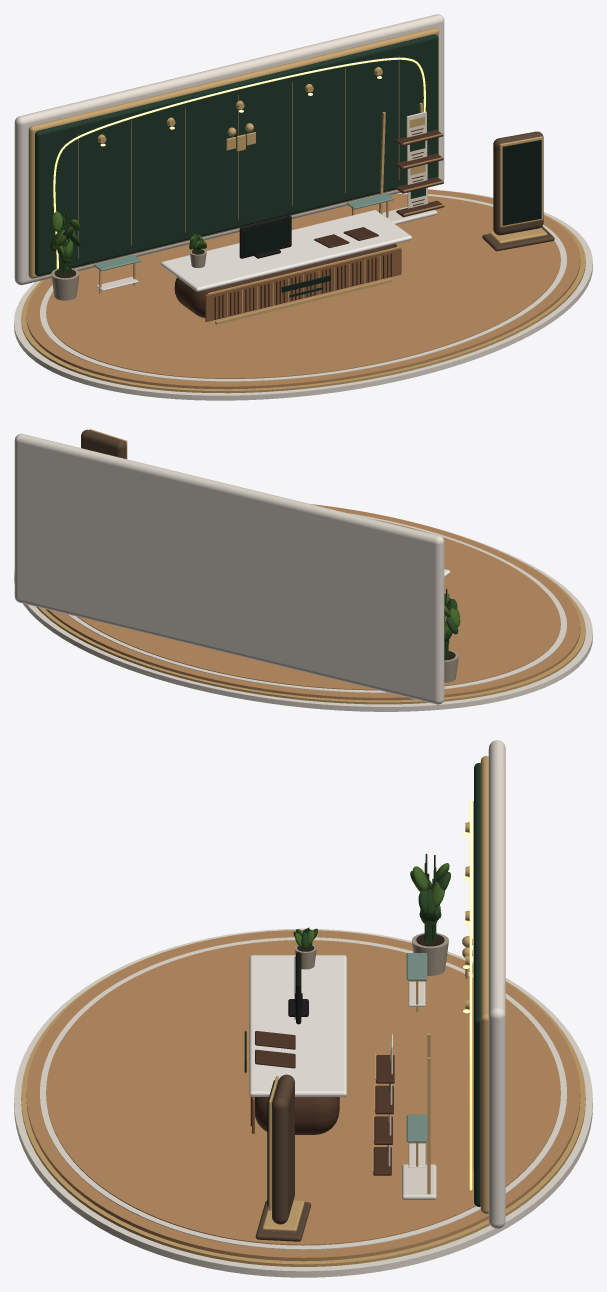
File: recruitment-center.glb
3 views of the same model, one above another, from view 1: azimuth 30°, elevation 25°; view 2: azimuth 150°, elevation 25°; view 3: azimuth 270°, elevation 25° (orthographic). The views are drawn at different scales.
Visible parts, largest first — view 1: Backwall_Green_Inset, Platform_Oak_Center, Backwall_Outer_Frame, Walkable_Oak_Platform, Desk_Stone_Top, Ground_RecruitmentCenter, Backwall_Brass_Reveal, Desk_Front_Inset, Platform_Champagne_Rim, Kiosk_Screen, Platform_Stone_Inlay, Desk_Body (+9 smaller); view 2: Backwall_Outer_Frame, Platform_Oak_Center, Walkable_Oak_Platform, Ground_RecruitmentCenter, Platform_Champagne_Rim, Platform_Stone_Inlay, Kiosk_Body; view 3: Platform_Oak_Center, Walkable_Oak_Platform, Desk_Stone_Top, Ground_RecruitmentCenter, Backwall_Outer_Frame, Platform_Stone_Inlay, Platform_Champagne_Rim, Backwall_Brass_Reveal, Kiosk_Body, Backwall_Green_Inset, Desk_Body, Backwall_Warm_LED_Arch (+4 smaller).
Boxes of the visible parts, left/top/right/bottom form: Backwall_Green_Inset: left=35, top=34, right=438, bottom=275; Platform_Oak_Center: left=46, top=194, right=560, bottom=378; Backwall_Outer_Frame: left=14, top=14, right=444, bottom=285; Walkable_Oak_Platform: left=26, top=189, right=580, bottom=389; Desk_Stone_Top: left=160, top=210, right=411, bottom=291; Ground_RecruitmentCenter: left=14, top=189, right=592, bottom=400; Backwall_Brass_Reveal: left=28, top=27, right=438, bottom=278; Desk_Front_Inset: left=205, top=248, right=401, bottom=321; Platform_Champagne_Rim: left=21, top=214, right=585, bottom=393; Kiosk_Screen: left=502, top=140, right=541, bottom=225; Platform_Stone_Inlay: left=39, top=192, right=566, bottom=381; Desk_Body: left=174, top=243, right=397, bottom=317; Backwall_Outer_Frame: left=14, top=433, right=444, bottom=704; Platform_Oak_Center: left=77, top=518, right=560, bottom=690; Walkable_Oak_Platform: left=45, top=504, right=580, bottom=700; Ground_RecruitmentCenter: left=14, top=526, right=592, bottom=711; Platform_Champagne_Rim: left=36, top=555, right=585, bottom=704; Platform_Stone_Inlay: left=67, top=513, right=566, bottom=692; Kiosk_Body: left=81, top=429, right=126, bottom=458; Platform_Oak_Center: left=46, top=940, right=560, bottom=1245; Walkable_Oak_Platform: left=26, top=930, right=580, bottom=1261; Desk_Stone_Top: left=249, top=955, right=346, bottom=1096; Ground_RecruitmentCenter: left=14, top=928, right=592, bottom=1277; Backwall_Outer_Frame: left=488, top=740, right=505, bottom=1228; Platform_Stone_Inlay: left=39, top=937, right=567, bottom=1249; Platform_Champagne_Rim: left=21, top=943, right=585, bottom=1266; Backwall_Brass_Reveal: left=480, top=756, right=488, bottom=1213; Kiosk_Body: left=272, top=1074, right=294, bottom=1224; Backwall_Green_Inset: left=474, top=763, right=480, bottom=1206; Desk_Body: left=255, top=1097, right=339, bottom=1134; Backwall_Warm_LED_Arch: left=469, top=801, right=472, bottom=1190.
Size of the model in its own units: 18.2 by 5.75 by 13.
